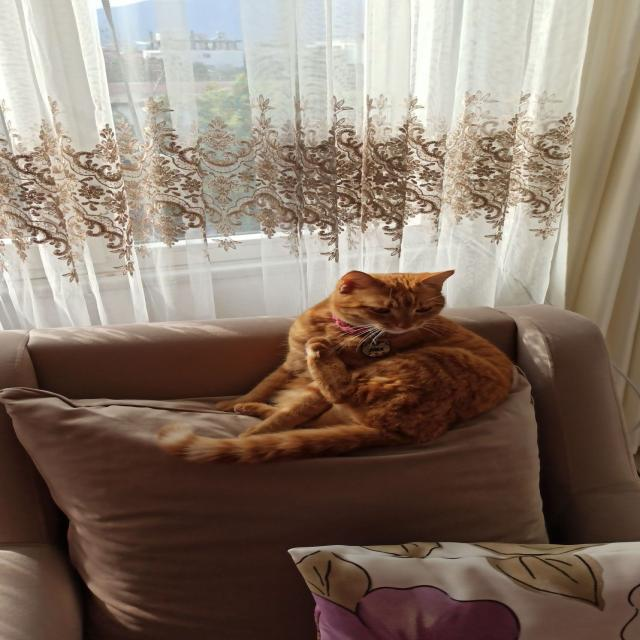sarman: (79, 161, 640, 509)
